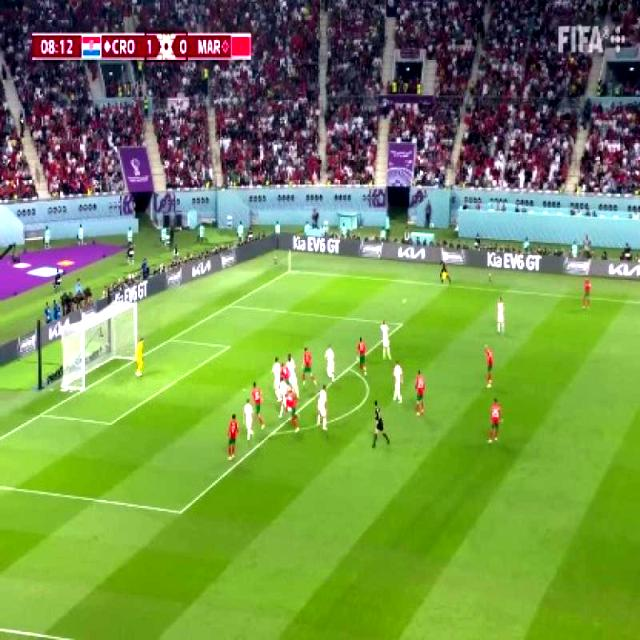bigarea_bottom_inner: (172, 500, 188, 523)
bigarea_top_inner: (395, 316, 405, 329)
bigarea_top_outter: (223, 300, 231, 310), (225, 300, 232, 310)
bottom_arc_area_intersection: (266, 424, 276, 439)
corner: (284, 266, 292, 274)
smallarea_bottom_inner: (104, 414, 116, 431)
smallarea_bottom_outter: (36, 406, 46, 420)
smallarea_top_inner: (223, 340, 232, 352)
smallarea_top_outter: (166, 334, 174, 344)
top_arc_area_intersection: (343, 360, 354, 374)
